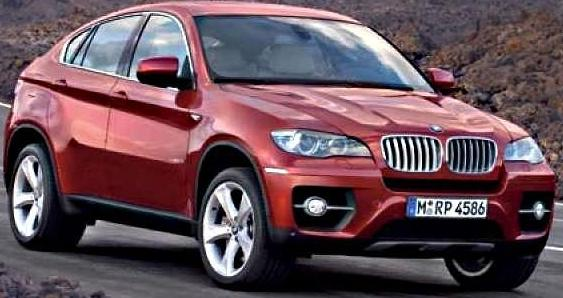front_view: (263, 121, 559, 252)
headlight: (269, 122, 378, 168)
side_glass: (63, 7, 195, 94)
